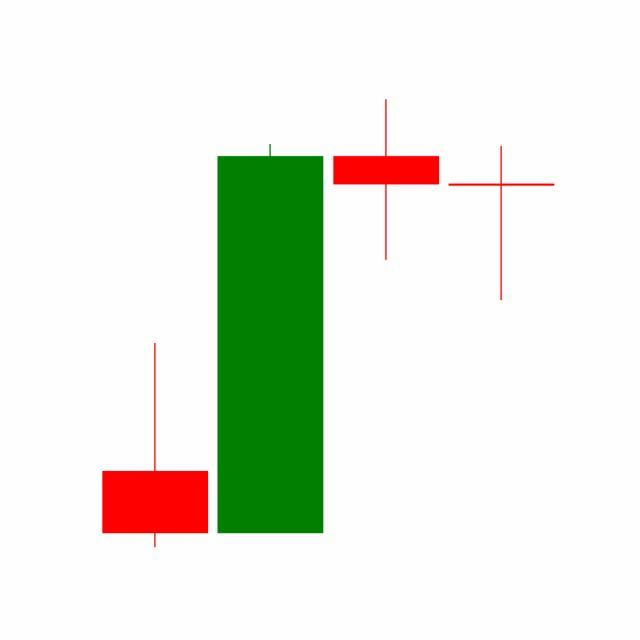Hanging Man: (444, 144, 560, 303)
